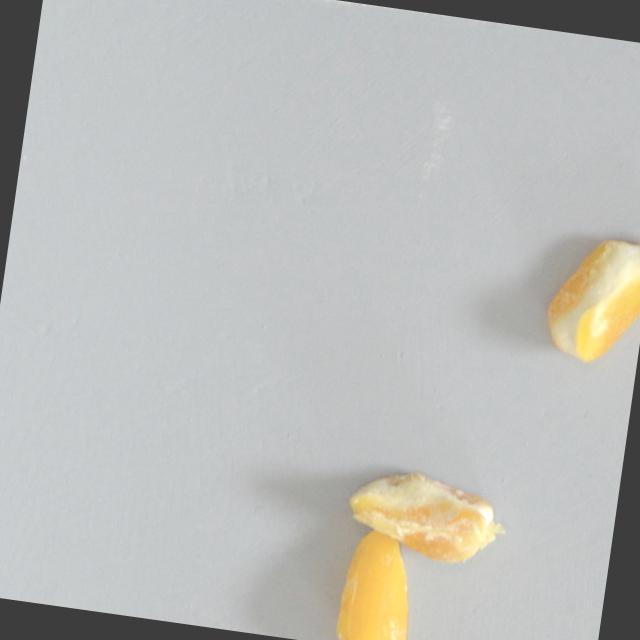dañado: (338, 453, 520, 583), (528, 213, 640, 378), (325, 521, 433, 640)
